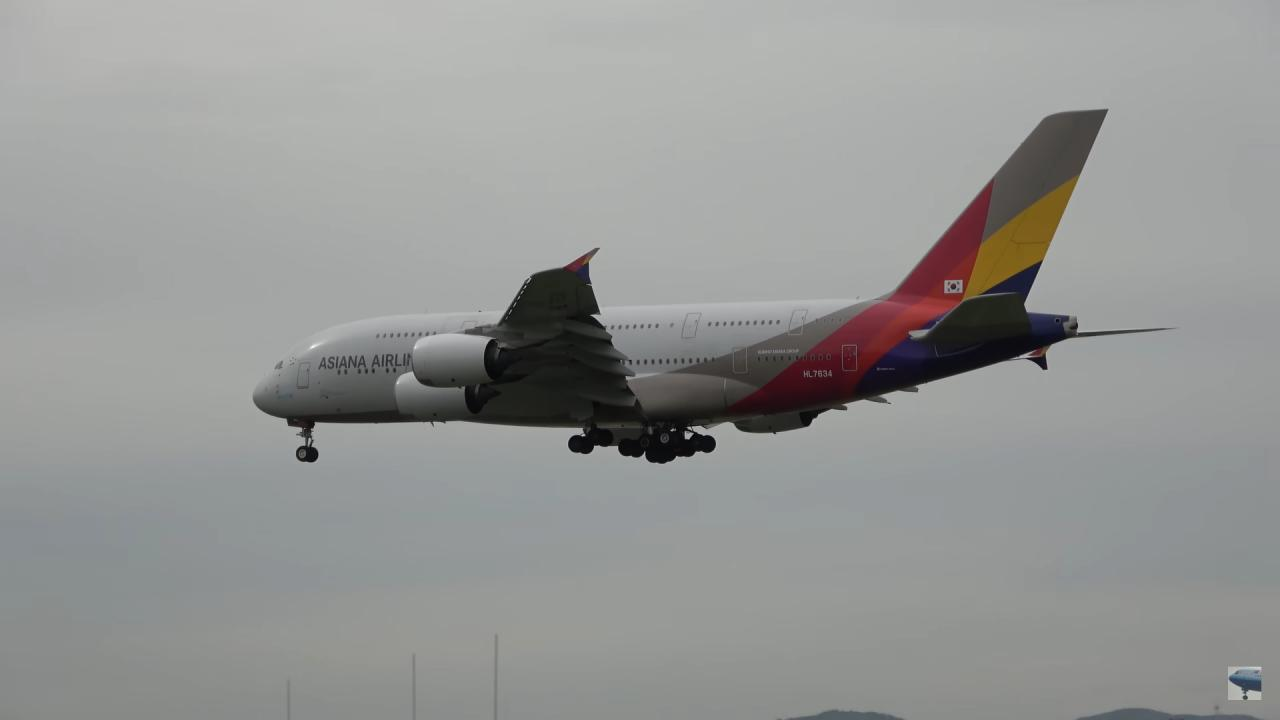Airplane: (236, 90, 1174, 486)
